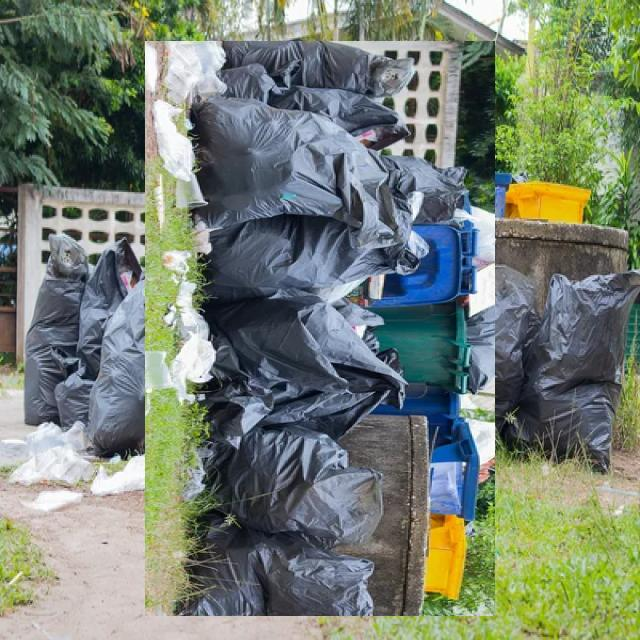garbage: (88, 96, 552, 560)
